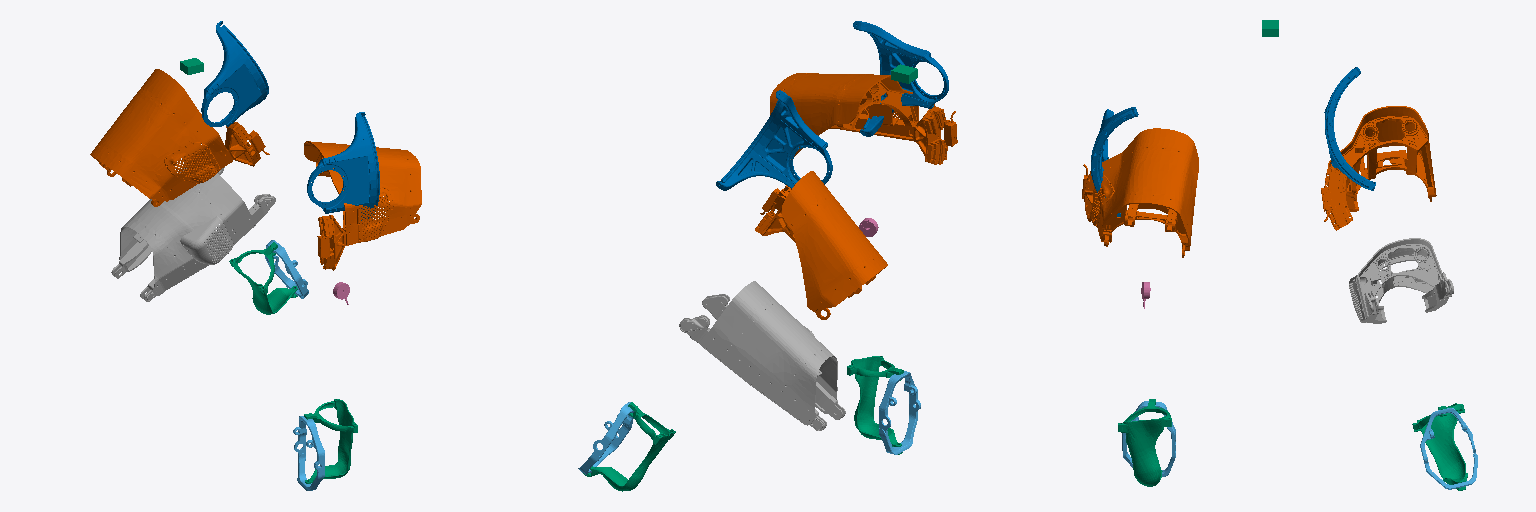
robot.urdf — p3_model:
<robot name="p3_model">
  <link name="hip_ground_link">
    <inertial>
      <origin
        xyz="-0.21963 -0.00252 -0.04174"
        rpy="0 0 0" />
      <mass value="9.1437" />
      <inertia
        ixx="0.11497"
        ixy="-0.0021392"
        ixz="0.00014109"
        iyy="0.059666"
        iyz="0.022583"
        izz="0.16206" />
    </inertial>
    <visual>
      <origin
        xyz="0 0 0"
        rpy="0 0 1.5707" />
      <geometry>
        <mesh
          filename="meshes/hip_ground_link.STL" />
      </geometry>
   </visual>
 </link>
  <joint
    name="Sagit_P3_Hip_FT_Sensor"
    type="fixed">
    <origin
      xyz="-0.15247 0 -0.015"
      rpy="0 0 0" />
    <parent link="hip_ground_link" />
    <child  link="hip_f/t_sensor" />
    <axis xyz="0 0 0" />
  </joint>
  <link name="hip_f/t_sensor">
    <inertial>
      <origin
        xyz="-0.00714130419826856 -0.000549097540975381 0.000203175483258886"
        rpy="0 0 0" />
      <mass
        value="0.046215262898878" />
      <inertia
        ixx="0"
        ixy="0"
        ixz="0"
        iyy="0"
        iyz="0"
        izz="0" />
    </inertial>
    <visual>
      <origin
        xyz="0 0 0"
        rpy="0 0 1.5707" />
      <geometry>
        <mesh filename="meshes/hip_f_t_sensor.STL" />
      </geometry>
   </visual>
 </link>
<!-- IMU Joint/Link -->
  <joint
    name="Sagit_P3_IMU_joint"
    type="fixed">
    <origin
      xyz="-0.179 0.136 0.134"
      rpy="1.5708 0 -1.5708" />
    <parent link="hip_ground_link" />
    <child link="P3_IMU" />
    <axis xyz="0 0 0" />
  </joint>
  <link
    name="P3_IMU">
    <inertial>
      <origin
        xyz="0 0 0"
        rpy="0 0 0" />
      <mass
        value="0.25" />
      <inertia
        ixx="0"
        ixy="0"
        ixz="0"
        iyy="0"
        iyz="0"
        izz="0" />
    </inertial>
    <visual>
      <origin
        xyz="0.01075 -0.0193 -0.0224"
        rpy="0 0 1.57070" />
     <geometry>
       <box size="0.0215 0.0386 0.0448" />
     </geometry>
   </visual>
 </link>

   <!-- P3 RIGHT SIDE -->
  <joint name="Sagit_P3_Abduction_Right" type="revolute">
    <origin
      xyz="-0.15461 -0.1025 -0.19938"
      rpy="-0.10442 -0.52046 -0.060105" />
    <parent link="hip_ground_link" />
    <child link="right_hip_abd/add_link" />
    <axis xyz="1 0 0" />
    <limit
      effort="0"
      velocity="0"
      lower="-0.611"
      upper="0.873" />
   </joint>
  <link name="right_hip_abd/add_link">
    <inertial>
      <origin
        xyz="0.14214 -0.14506 0.02434"
        rpy="0 0 0" />
      <mass value="2.37" />
      <inertia
        ixx="0.0114056540911523"
        ixy="-0.00168082766225483"
        ixz="0.00610247598439131"
        iyy="0.0151927917692044"
        iyz="0.00334524244885922"
        izz="0.006361868744477" />
    </inertial>
    <visual>
      <origin
        xyz="0 0 0"
        rpy="0 0 1.57070" />
      <geometry>
        <mesh filename="meshes/right_hip_abd_add_link.STL" />
      </geometry>
   </visual>
  </link>
  <joint    name="Sagit_P3_Flexion_Right"    type="revolute">
    <origin
      xyz="0.1992 -0.1475 0.00075"
      rpy="-2.1164E-16 0.5236 6.245E-17" />
    <parent
      link="right_hip_abd/add_link" />
    <child
      link="right_hip_fe_link" />
    <axis
      xyz="0 1 0" />
    <limit
      effort="0"
      velocity="0"
      lower="-1.963"
      upper="0.262" />
  </joint>

 <link
    name="right_hip_fe_link">
    <inertial>
      <origin
        xyz="0.00004 0.02125 -0.10906"
        rpy="0 0 0" />
      <mass
        value="2.38" />
      <inertia
        ixx="0.00334659558092072"
        ixy="0.000217334132544034"
        ixz="-4.16170985997141E-07"
        iyy="0.00237506737299935"
        iyz="-5.9660412382548E-07"
        izz="0.00110550421000643" />
    </inertial>
    <visual>
      <origin
        xyz="0 0 0"
        rpy="0 0 1.57070" />
      <geometry>
        <mesh
          filename="meshes/right_hip_fe_link.STL" />
      </geometry>
   </visual>
 </link>
 <joint
    name="Sagit_P3_Hip_Yaw_Right_Passive"
    type="revolute">
   <origin
      xyz="0 0.1475 -0.142 "
      rpy="-9.5678E-16 8.5825E-16 2.0817E-17 " />
    <parent
      link="right_hip_fe_link" />
    <child
      link="right_thigh_link" />
    <axis
      xyz="0 0 1" />
    <limit
      effort="0"
      velocity="0"
      lower="-0.611"
      upper="0.611" />
  </joint>
  <link
    name="right_thigh_link">
    <inertial>
      <origin
        xyz="0.09439 -0.02903 -0.11972 "
        rpy="0 0 0" />
      <mass value="3.19" />
      <inertia
        ixx="0.0162000606171735"
        ixy="0.00879667099291498"
        ixz="-0.00473963596430454"
        iyy="0.0136139183996148"
        iyz="0.00400927557737052"
        izz="0.0214349854288065" />
    </inertial>
    <visual>
      <origin
        xyz="0 0 0"
        rpy="0 0 1.57070" />
      <geometry>
        <mesh
          filename="meshes/right_thigh_link.STL" />
      </geometry>
   </visual>
 </link>
  <joint
    name="Sagit_P3_Thigh_Right_FT_Sensor"
    type="fixed">
    <origin
      xyz="0.081984 0 -0.18709 "
      rpy="-1.5708 -3.1416 0.2618 " />
    <parent
      link="right_thigh_link" />
    <child
      link="right_thigh_f/t_sensor" />
    <axis
      xyz="0 0 0" />
  </joint>
  <link
    name="right_thigh_f/t_sensor">
    <inertial>
      <origin
        xyz="-0.00714130327248891 -0.000549094925531513 0.000203174302725456 "
        rpy="0 0 0" />
      <mass
        value="0.0462152585935042" />
      <inertia
        ixx="0"
        ixy="0"
        ixz="0"
        iyy="0"
        iyz="0"
        izz="0" />
    </inertial>
    <visual>
      <origin
        xyz="0 0 0"
        rpy="0 0 1.57070" />
      <geometry>
        <mesh
          filename="meshes/right_thigh_f_t_sensor.STL" />
      </geometry>
   </visual>
 </link>
  <joint
    name="Sagit_P3_Knee_Right"
    type="revolute">
    <origin
      xyz="0 0 -0.24432 "
      rpy="0.10437 0.00089208 0.008516 " />
    <parent
      link="right_thigh_link" />
    <child
      link="right_shin_link" />
    <axis xyz="0.0 0.99452 -0.10418 " />
    <!--<axis xyz="0 1 0 " />-->
    <!--<axis xyz="0.99452 -0.10418 0.0085625" />-->
    <limit
      effort="0"
      velocity="0"
      lower="-0.06876597252"
      upper="2.026" />
  </joint>
  <link
    name="right_shin_link">
    <inertial>
      <origin
        xyz="0.06308 -0.00627 -0.16404 "
        rpy="0 0 0" />
      <mass
        value="3.008" />
      <inertia
        ixx="0.00565266471326236"
        ixy="0.000368043140130914"
        ixz="-0.000180057149522133"
        iyy="0.00647059198020386"
        iyz="8.11953392731939E-05"
        izz="0.00936046386714468" />
    </inertial>
    <visual>
      <origin
        xyz="0 0 0"
        rpy="0 0 1.57070" />
      <geometry>
        <mesh
          filename="meshes/right_shin_link.STL" />
      </geometry>
   </visual>
 </link>
  <joint
    name="Sagit_P3_Shin_Right_FT_Sensor"
    type="fixed">
    <origin
      xyz="0.051125 0 -0.23345 "
      rpy="-1.5708 -3.1416 0.087266 " />
    <parent
      link="right_shin_link" />
    <child
      link="right_shin_f/t_sensor" />
    <axis
      xyz="0 0 0" />
  </joint>
  <link
    name="right_shin_f/t_sensor">
    <inertial>
      <origin
        xyz="-0.00714130365667479 -0.00054909438467865 0.000203173734973194"
        rpy="0 0 0" />
      <mass
        value="0.0462152574279291" />
      <inertia
        ixx="0"
        ixy="0"
        ixz="0"
        iyy="0"
        iyz="0"
        izz="0" />
    </inertial>
    <visual>
      <origin
        xyz="0 0 0"
        rpy="0 0 1.57070" />
      <geometry>
        <mesh
          filename="meshes/right_shin_f_t_sensor.STL" />
      </geometry>
   </visual>
 </link>
  <joint
    name="Sagit_P3_Ankle_Right"
    type="revolute">
    <origin
      xyz="0 0 -0.366"
      rpy="-6.1407E-17 6.0715E-17 -6.9389E-18 " />
    <parent
      link="right_shin_link" />
    <child
      link="right_ankle_link" />
    <axis
      xyz="0 1 0" />
    <limit
      effort="0"
      velocity="0"
      lower="-0.524"
      upper="0.611" />
  </joint>
  <link
    name="right_ankle_link">
    <inertial>
      <origin
        xyz="0.00844 -0.00869 -0.00026 "
        rpy="0 0 0" />
      <mass
        value="0.238" />
      <inertia
        ixx="0"
        ixy="0"
        ixz="0"
        iyy="0"
        iyz="0"
        izz="0" />
    </inertial>
    <visual>
      <origin
        xyz="0 0 0"
        rpy="0 0 1.57070" />
      <geometry>
        <mesh
          filename="meshes/right_ankle_link.STL" />
      </geometry>
   </visual>
 </link>
  <joint
    name="Sagit_P3_Ankle_Roll_Right_Passive"
    type="revolute">
   <origin
      xyz="0 0 0"
      rpy="-1.7483E-18 1.249E-16 2.7756E-17 " />
    <parent
      link="right_ankle_link" />
    <child
      link="right_foot_link" />
    <axis
      xyz="1 0 0" />
    <limit
      effort="0"
      velocity="0"
      lower="-0.61086523819"
      upper="0.61086523819" />
  </joint>
  <link
    name="right_foot_link">
    <inertial>
      <origin
        xyz="0.01783 -0.00462 -0.06907 "
        rpy="0 0 0" />
      <mass
        value="0.25" />
      <inertia
        ixx="0.000519364982683758"
        ixy="-3.94937974568523E-06"
        ixz="-8.31252166845822E-06"
        iyy="0.000448807847817588"
        iyz="-0.000155919814858676"
        izz="7.12502428327461E-05" />
    </inertial>
    <visual>
      <origin
        xyz="0 0 0"
        rpy="0 0 1.57070" />
      <geometry>
        <mesh
          filename="meshes/right_foot_link.STL" />
      </geometry>
   </visual>
 </link>


  <!-- P3 LEFT SIDE -->

  <joint
    name="Sagit_P3_Abduction_Left"
    type="revolute">
    <origin
      xyz="-0.15461 0.1025 -0.19938 "
      rpy="0.10442 -0.52046 0.060105 " />
    <parent
      link="hip_ground_link" />
    <child
      link="left_hip_abd/add_link" />
    <axis
      xyz="1 0 0" />
    <limit
      effort="0"
      velocity="0" 
      lower="-0.873"
      upper="0.611" />
  </joint>
  <link
    name="left_hip_abd/add_link">
    <inertial>
      <origin
        xyz="0.14214 0.14506 0.02434 "
        rpy="0 0 0" />
      <mass
        value="2.37" />
      <inertia
        ixx="0.0114068446866524"
        ixy="0.00169215045489832"
        ixz="-0.00609776421988829"
        iyy="0.0152202238013214"
        iyz="0.00333339595861607"
        izz="0.00633648666768316" />
    </inertial>
    <visual>
      <origin
        xyz="0 0 0"
        rpy="0 0 1.57070" />
      <geometry>
        <mesh
          filename="meshes/left_hip_abd_add_link.STL" />
      </geometry>
   </visual>
 </link>
  <joint
    name="Sagit_P3_Flexion_Left"
    type="revolute">
    <!--<origin xyz="0.199200961894321 0.1475 0.000749999999997086 " rpy="-3.14159265358979 2.61799387799151 1.17961196366423E-16 " />-->
    <origin xyz="0.2 0.1475 0.00075 " rpy="0 0 0 " />
    <parent
      link="left_hip_abd/add_link" />
    <child
      link="left_hip_fe_link" />
    <axis
      xyz="0 1 0" />
    <limit
      effort="0"
      velocity="0" 
      lower="-1.963"
      upper="0.262" />
  </joint>
  <link name="left_hip_fe_link">
    <inertial>
      <origin
        xyz="-0.00004 0.02125 -0.10906 "
        rpy="0 0 0" />
      <mass
        value="2.38" />
      <inertia
        ixx="0.00334659534923131"
        ixy="-0.00021733411032375"
        ixz="-4.17436685358473E-07"
        iyy="0.00237506751126287"
        iyz="5.98503333828489E-07"
        izz="0.00110550394464832" />
    </inertial>
    <visual>
      <origin
        xyz="0 0 0"
        rpy="0 0 1.57070" />
      <geometry>
        <mesh filename="meshes/left_hip_f_e_link.STL" />
      </geometry>
   </visual>
 </link>
 <joint
    name="Sagit_P3_Hip_Yaw_Left_Passive"
    type="revolute">
   <origin
      xyz="0 0.1475 -0.142"
      rpy="3.1416 3.1416 0 " />
    <parent
      link="left_hip_fe_link" />
    <child
      link="left_thigh_link" />
    <axis
      xyz="0 0 1" />
    <limit
      effort="0"
      velocity="0"
      lower="-0.611"
      upper="0.611" />
  </joint>
  <link
    name="left_thigh_link">
    <inertial>
      <origin
        xyz="0.09439 0.02903 -0.11972 "
        rpy="0 0 0" />
      <mass
        value="3.19" />
      <inertia
        ixx="0.016212536412593"
        ixy="-0.00880042705630205"
        ixz="0.00473054710313293"
        iyy="0.0136057751524905"
        iyz="0.00402602232001844"
        izz="0.0214236911621945" />
    </inertial>
    <visual>
      <origin
        xyz="0 0 0"
        rpy="0 0 1.57070" />
      <geometry>
        <!-- <mesh
          filename="meshes/left_thigh_link_new.STL" /> -->
        <mesh
          filename="meshes/left_thigh_link_new.STL" />
      </geometry>
   </visual>
 </link>
  <joint
    name="Sagit_P3_Thigh_Left_FT_Sensor"
    type="fixed">
    <!-- <origin
      xyz="0 0.057231 0.081984"
      rpy="3.1416 -0.2618 1.5708" /> -->
    <origin
      xyz="0.081984 0 -0.18709 "
      rpy="1.5708 3.1416 -0.2618 " />
    <parent
      link="left_thigh_link" />
    <child
      link="left_thigh_f/t_sensor" />
    <axis
      xyz="0 0 0" />
  </joint>
  <link
    name="left_thigh_f/t_sensor">
    <inertial>
      <origin
        xyz="-0.00714130533313195 -0.000549098781895185 0.000203177676691299 "
        rpy="0 0 0" />
      <mass
        value="0.0462152726226985" />
      <inertia
        ixx="0"
        ixy="0"
        ixz="0"
        iyy="0"
        iyz="0"
        izz="0" />
    </inertial>
    <visual>
      <origin
        xyz="0 0 0"
        rpy="0 0 1.57070" />
      <geometry>
        <mesh
          filename="meshes/left_thigh_f_t_sensor.STL" />
      </geometry>
   </visual>
 </link>
  <joint
    name="Sagit_P3_Knee_Left"
    type="revolute">
    <!-- <origin
      xyz="0 0 0"
      rpy="0.00089208 -0.008516 -0.10437" /> -->
    <origin
      xyz="0 0 -0.244324789874438"
      rpy="-0.104374173664101 0.000892082957046399 -0.00851601606974494 " /> 
    <parent
      link="left_thigh_link" />
    <child
      link="left_shin_link" />
    <!--<axis xyz="0.99452 0.10418 -0.0085625" />-->
    <axis xyz="0 0.99452 0.10418" />
    <limit
      effort="0"
      velocity="0" 
      lower="-0.06876597252"
      upper="2.026" />
  </joint>
  <link
    name="left_shin_link">
    <inertial>
      <origin
        xyz="0.06308 0.00627 -0.16404 "
        rpy="0 0 0" />
      <mass
        value="3.008" />
      <inertia
        ixx="0.00504703161814173"
        ixy="-0.000450518314816275"
        ixz="0.000185881782874105"
        iyy="0.0061518494956966"
        iyz="0.000102189439066134"
        izz="0.00853566850735276" />
    </inertial>
    <visual>
      <origin
        xyz="0 0 0"
        rpy="0 0 1.57070" />
      <geometry>
        <mesh
          filename="meshes/left_shin_link.STL" />
      </geometry>
   </visual>
 </link>
  <joint
    name="Sagit_P3_Shin_Left_FT_Sensor"
    type="fixed">
    <origin
      xyz="0.051125 0 -0.23345 "
      rpy="-1.5708 -3.1416 0.087266 " />
    <parent
      link="left_shin_link" />
    <child
      link="left_shin_f/t_sensor" />
    <axis
      xyz="0 0 0" />
  </joint>
  <link
    name="left_shin_f/t_sensor">
    <inertial>
      <origin
        xyz="-0.00714130365575216 -0.000549094379241555 0.000203173732842121 "
        rpy="0 0 0" />
      <mass
        value="0.0462152574093924" />
      <inertia
        ixx="0"
        ixy="0"
        ixz="0"
        iyy="0"
        iyz="0"
        izz="0" />
    </inertial>
    <visual>
      <origin
        xyz="0 0 0"
        rpy="0 0 1.57070" />
      <geometry>
        <mesh
          filename="meshes/left_shin_f_t_sensor.STL" />
      </geometry>
   </visual>
 </link>
  <joint
    name="Sagit_P3_Ankle_Left"
    type="revolute">
    <origin
      xyz="0 0 -0.366"
      rpy="-8.5923E-18 2.3896E-16 -2.7756E-17 " />
    <parent
      link="left_shin_link" />
    <child
      link="left_ankle_link" />
    <axis
      xyz="0 1 0" />
    <limit
      effort="0"
      velocity="0"
      lower="-0.524"
      upper="0.611" /> />
  </joint>
  <link
    name="left_ankle_link">
    <inertial>
      <origin
        xyz="0.00844 0.00869 -0.00026 "
        rpy="0 0 0" />
      <mass
        value="0.238" />
      <inertia
        ixx="0"
        ixy="0"
        ixz="0"
        iyy="0"
        iyz="0"
        izz="0" />
    </inertial>
    <visual>
      <origin
        xyz="0 0 0"
        rpy="0 0 1.57070" />
      <geometry>
        <mesh
          filename="meshes/left_ankle_link.STL" />
      </geometry>
   </visual>
 </link>
  <!-- type can be switched from fixed to revolute -->
  <joint
    name="Sagit_P3_Ankle_Roll_Left_Passive"
    type="revolute">
  <!-- <joint
    name="Sagit_P3_Ankle_Roll_Left_Passive"
    type="fixed"> -->
    <origin
      xyz="0 0 0"
      rpy="2.6021E-18 6.1149E-17 6.9389E-18 " />
    <parent
      link="left_ankle_link" />
    <child
      link="left_foot_link" />
    <axis
      xyz="0 0 1" />
    <limit
      effort="0"
      velocity="0"
      lower="-0.61086523819"
      upper="0.61086523819" />
  </joint>
  <link
    name="left_foot_link">
    <inertial>
      <origin
        xyz="0.01783 0.00462 -0.06907 "
        rpy="0 0 0" />
      <mass
        value="0.25" />
      <inertia
        ixx="0.000203368320611764"
        ixy="1.75946030813124E-06"
        ixz="2.64328867261215E-06"
        iyy="0.000172404922248118"
        iyz="-5.2526247182956E-05"
        izz="3.1166332016296E-05" />
    </inertial>
    <visual>
      <origin
        xyz="0 0 0"
        rpy="0 0 1.57070" />
      <geometry>
        <mesh
          filename="meshes/left_foot_link.STL" />
      </geometry>
   </visual>
 </link>
</robot>

--- Render facts (derived) ---
3 views of the same robot in one strip: view 1: azimuth 30°, elevation 25°; view 2: azimuth 150°, elevation 25°; view 3: azimuth 270°, elevation 25° (orthographic).
Robot: p3_model — 19 links, 18 joints (12 revolute, 6 fixed); root link hip_ground_link; default pose: all joints at 0.
Visible links, largest first — view 1: left_thigh_link, left_shin_link, right_thigh_link, right_hip_fe_link, left_hip_fe_link, right_foot_link, left_foot_link, right_ankle_link, left_ankle_link; view 2: left_shin_link, left_thigh_link, right_thigh_link, left_hip_fe_link, right_hip_fe_link, right_foot_link, left_foot_link, right_ankle_link, left_ankle_link; view 3: right_thigh_link, left_thigh_link, left_shin_link, right_foot_link, left_foot_link, left_hip_fe_link, right_hip_fe_link, left_ankle_link, right_ankle_link.
Link boxes in pixels (left/top/right/bottom): left_thigh_link: left=90, top=69, right=269, bottom=206; left_shin_link: left=111, top=167, right=275, bottom=301; right_thigh_link: left=304, top=141, right=421, bottom=270; right_hip_fe_link: left=307, top=112, right=379, bottom=220; left_hip_fe_link: left=201, top=21, right=268, bottom=126; right_foot_link: left=304, top=399, right=357, bottom=483; left_foot_link: left=229, top=242, right=297, bottom=314; right_ankle_link: left=293, top=416, right=324, bottom=490; left_ankle_link: left=265, top=240, right=308, bottom=298; left_shin_link: left=679, top=281, right=845, bottom=430; left_thigh_link: left=755, top=171, right=887, bottom=319; right_thigh_link: left=770, top=73, right=957, bottom=164; left_hip_fe_link: left=716, top=90, right=832, bottom=190; right_hip_fe_link: left=853, top=21, right=948, bottom=136; right_foot_link: left=847, top=356, right=903, bottom=454; left_foot_link: left=583, top=402, right=675, bottom=491; right_ankle_link: left=879, top=371, right=920, bottom=454; left_ankle_link: left=578, top=402, right=634, bottom=474; right_thigh_link: left=1082, top=128, right=1198, bottom=257; left_thigh_link: left=1321, top=106, right=1436, bottom=230; left_shin_link: left=1349, top=238, right=1453, bottom=323; right_foot_link: left=1118, top=399, right=1171, bottom=486; left_foot_link: left=1412, top=403, right=1467, bottom=490; left_hip_fe_link: left=1324, top=67, right=1375, bottom=190; right_hip_fe_link: left=1091, top=107, right=1138, bottom=216; left_ankle_link: left=1420, top=408, right=1477, bottom=489; right_ankle_link: left=1122, top=401, right=1175, bottom=476.
Bounding box of the posed robot: 0.6597 × 0.9071 × 1.07 m (x, y, z).
Meshes: 18 distinct files referenced, 10 mesh visuals loaded (10 binary STL); not drawn: 8 (reference not matched to a file when rendering).